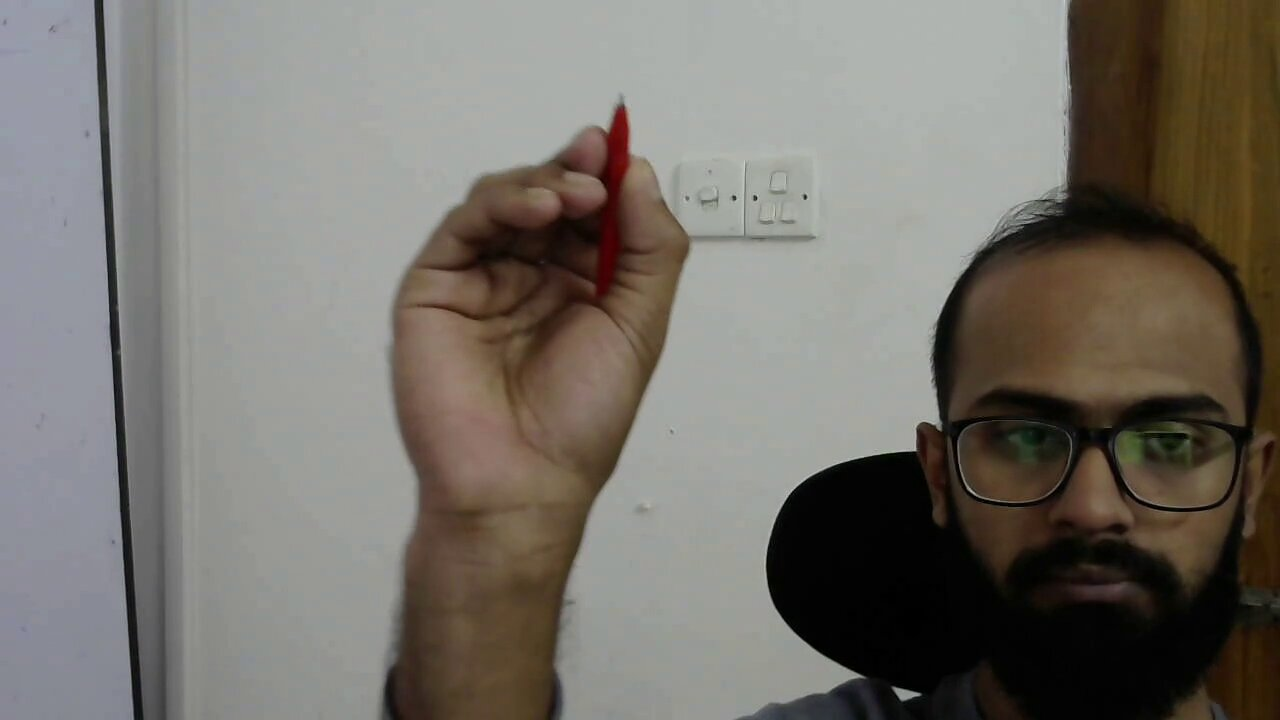pointer: (390, 124, 693, 450)
